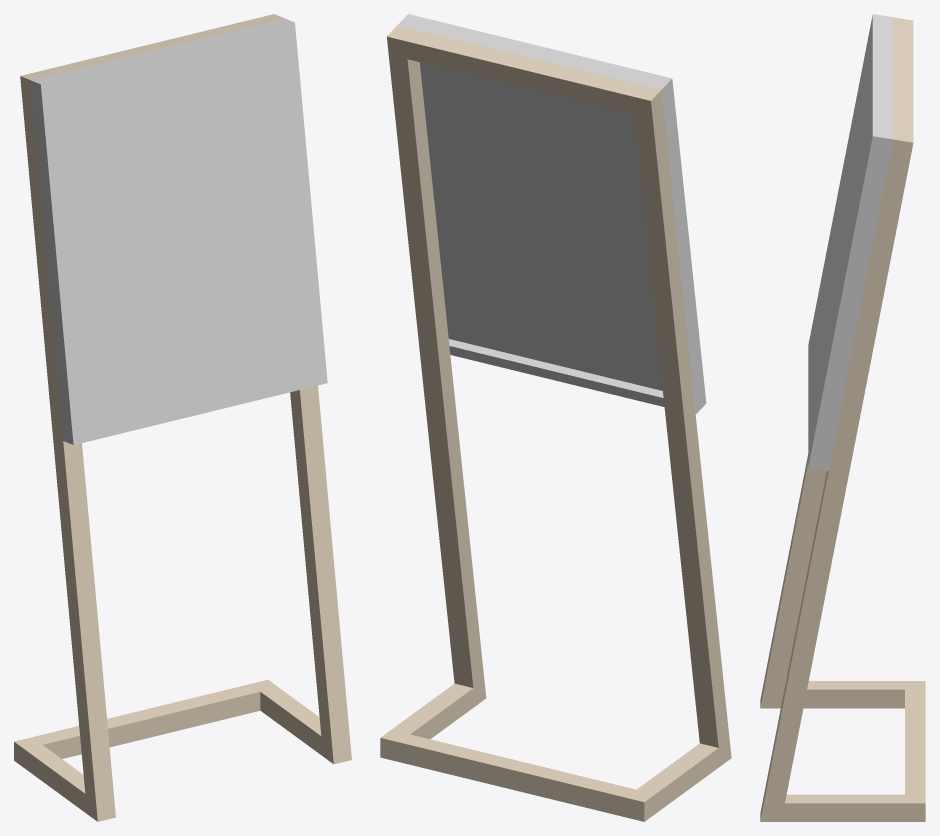
Rendered from photostand02.glb.
3 renders of one model, left to right at view 1: azimuth 30°, elevation 25°; view 2: azimuth 150°, elevation 25°; view 3: azimuth 270°, elevation 25°, orthographic. The views are drawn at different scales.
Visible parts, largest first — view 1: Material2 (×2); view 2: Material2 (×2); view 3: Material2 (×2).
Part boxes in pixels (x1,y1,x2,y2): Material2 (×2): (14,14,351,821); Material2 (×2): (380,14,731,821); Material2 (×2): (760,14,925,821).
Size of the model in its own units: 27.56 by 72.1 by 15.75.
